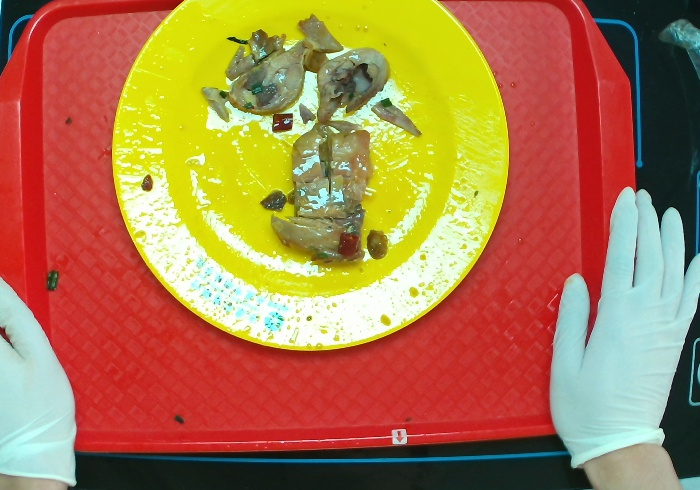YKMZ-Huang_Se_Mian_Pan: (104, 1, 511, 359)
